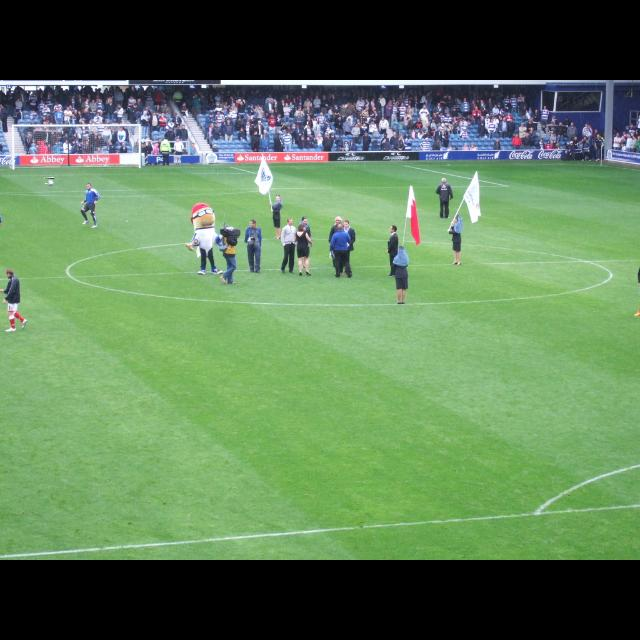Football: (44, 178, 54, 184)
